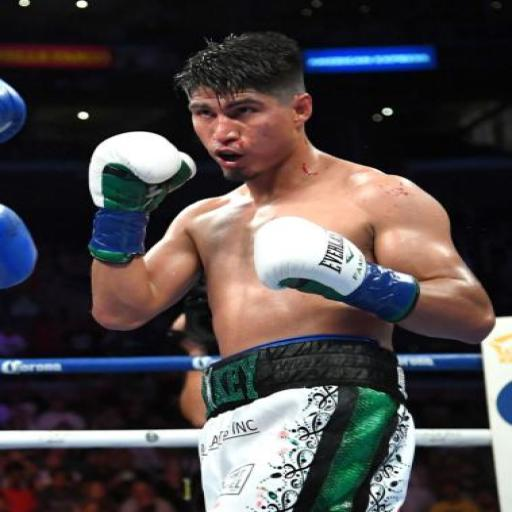boxing: (85, 30, 496, 511)
